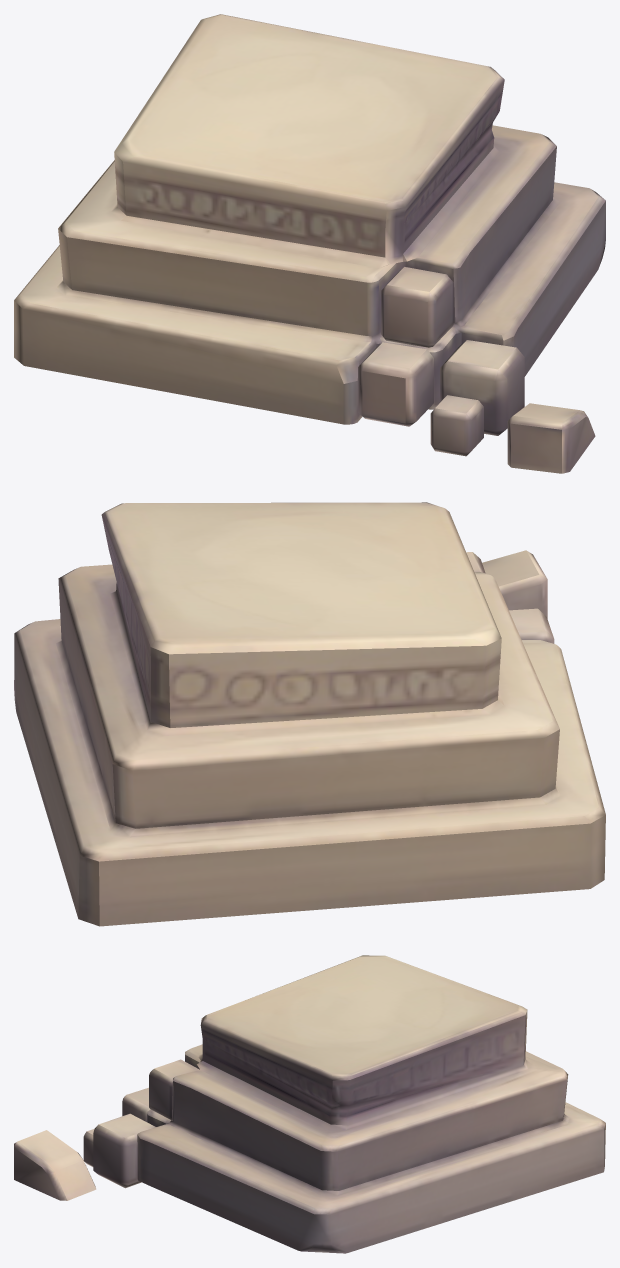
Rendered from SM_RuinStepBase_01.fbx.
3 views of the same model, one above another, from view 1: azimuth 30°, elevation 25°; view 2: azimuth 150°, elevation 25°; view 3: azimuth 270°, elevation 25° (orthographic). The views are drawn at different scales.
Parts seen in each view (by area): view 1: SM_RuinStepBase_01; view 2: SM_RuinStepBase_01; view 3: SM_RuinStepBase_01.
Boxes of the visible parts, <box> form: SM_RuinStepBase_01: <box>14,14,605,473</box>; SM_RuinStepBase_01: <box>14,502,605,926</box>; SM_RuinStepBase_01: <box>14,955,605,1253</box>.
Bounding box in the file's own units: 85.46 × 33.36 × 106.
Materials: 1 (1 with a texture image).
